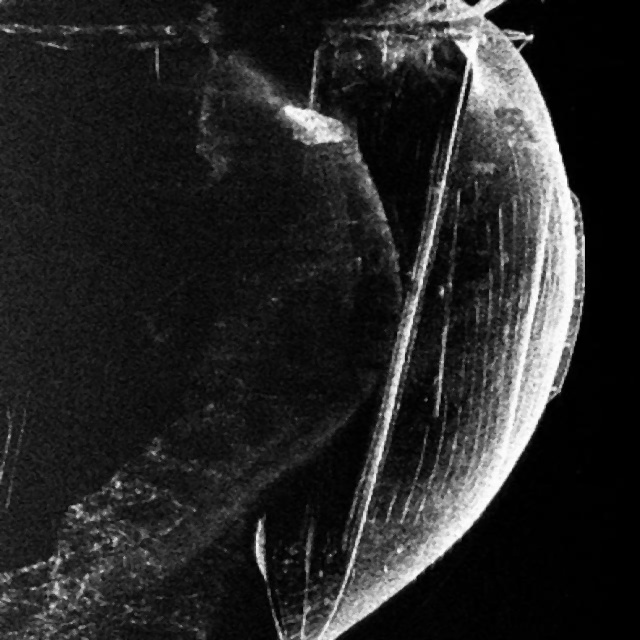Ship: (222, 0, 598, 640)
